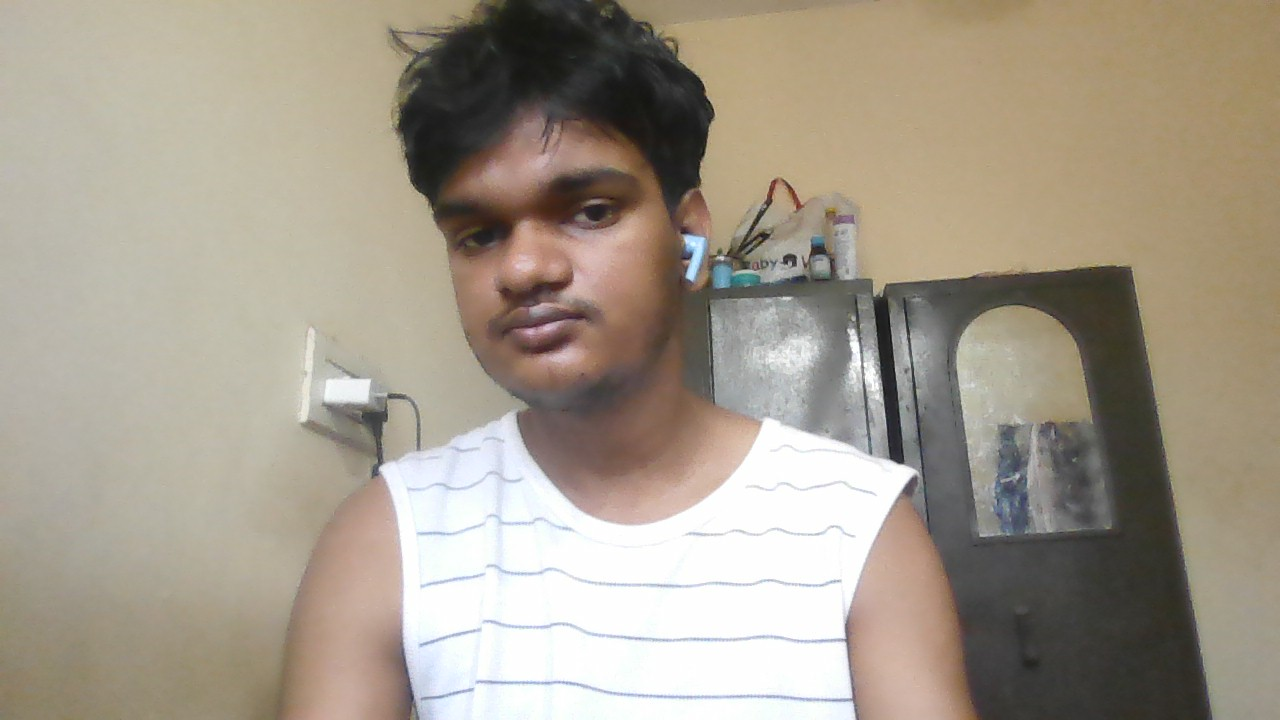earphone: (681, 231, 712, 286)
